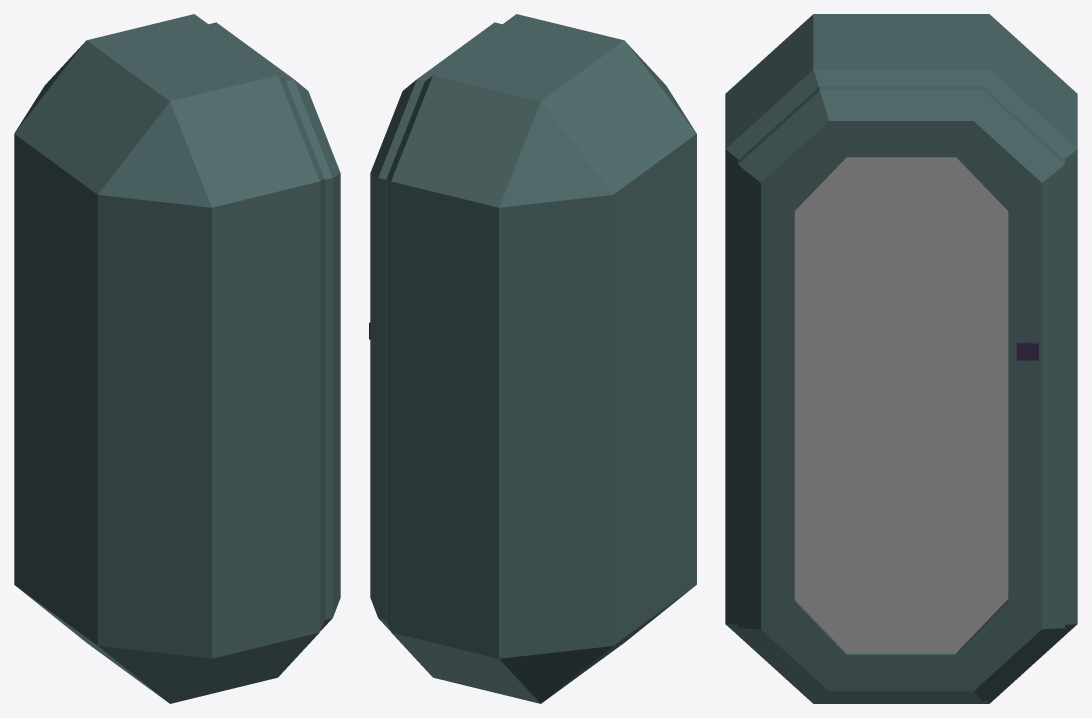
Rendered from lvl1_alienFridge.fbx.
3 views of the same model, side by side, from view 1: azimuth 30°, elevation 25°; view 2: azimuth 150°, elevation 25°; view 3: azimuth 270°, elevation 25° (orthographic). The views are drawn at different scales.
Visible parts, largest first — view 1: fridge_body, fridge_door_frame; view 2: fridge_body, fridge_door_frame; view 3: fridge_window, fridge_door_frame, fridge_body.
Boxes of the visible parts, x1,y1,x2,y2 form: fridge_body: (14,14,324,703); fridge_door_frame: (209,22,340,630); fridge_body: (386,14,696,703); fridge_door_frame: (370,22,501,630); fridge_window: (794,157,1008,653); fridge_door_frame: (738,86,1064,702); fridge_body: (725,14,1077,703).
Size of the model in its own units: 266 by 693 by 349.
